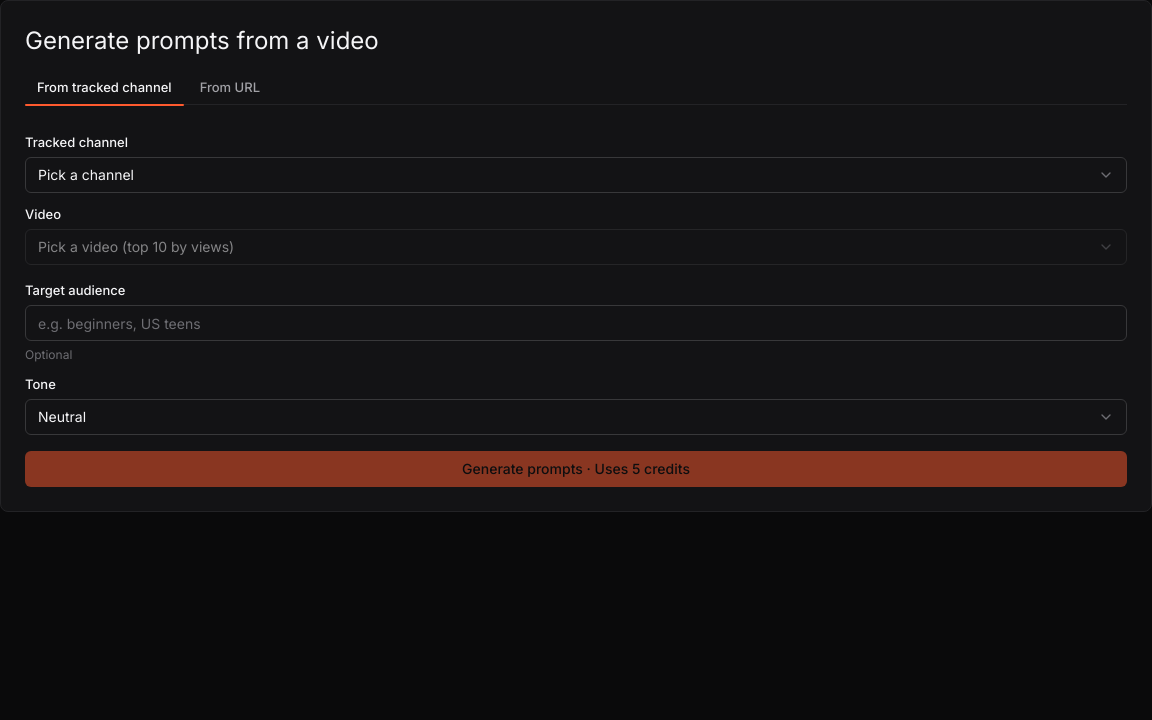
GeneratorForm › shows a failure message and does not charge, per copy
Click the tab "From URL": (230,86) [188,68,272,104]
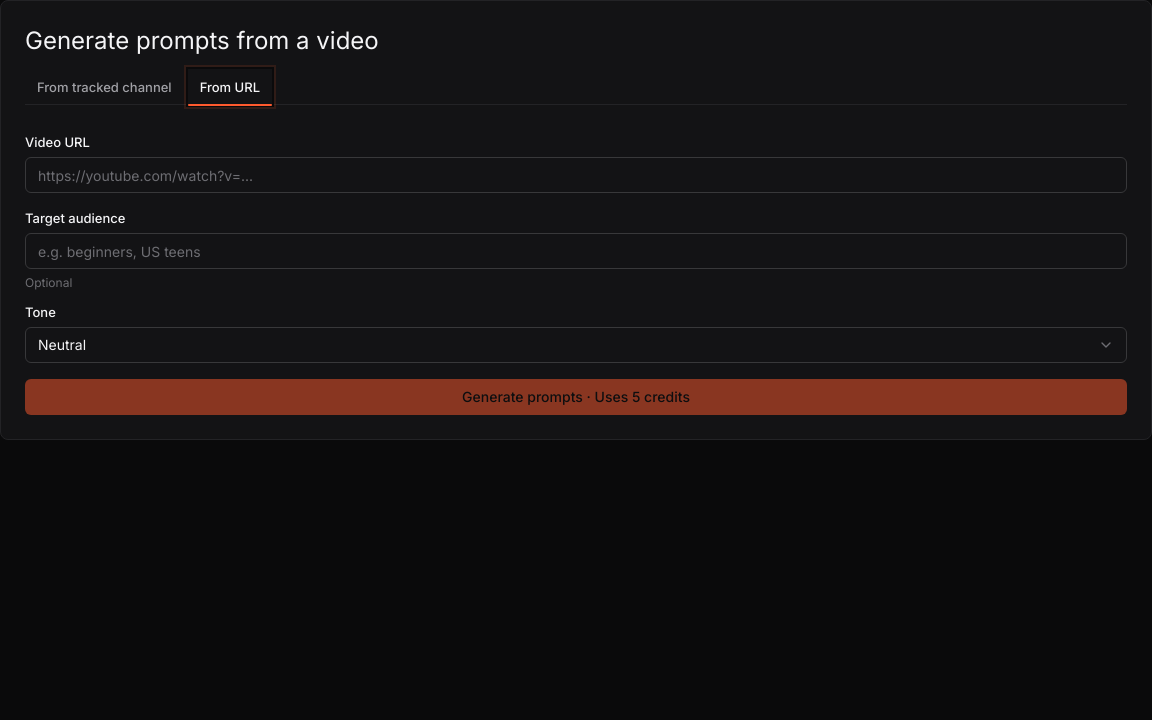
In the field labelled "Video URL": (576,175) [25,157,1127,193], type "https://youtube.com/watch?v=abc123"
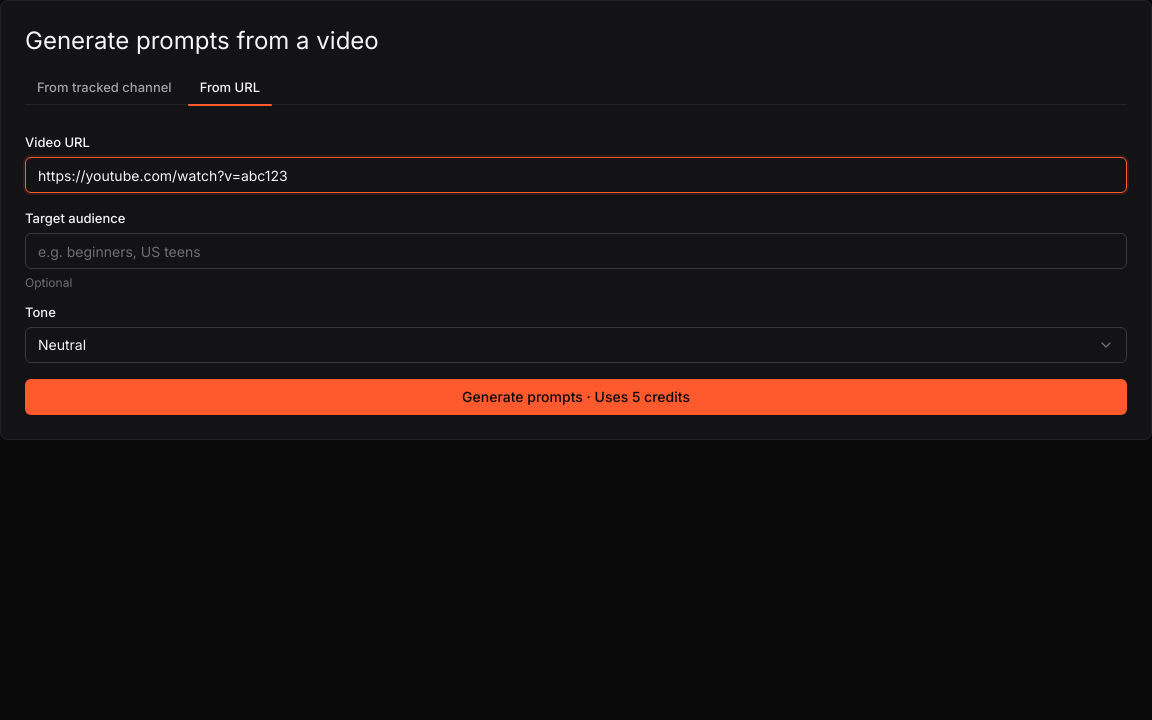
Click the button "Generate prompts · Uses 5 credits": (576,397) [25,379,1127,415]
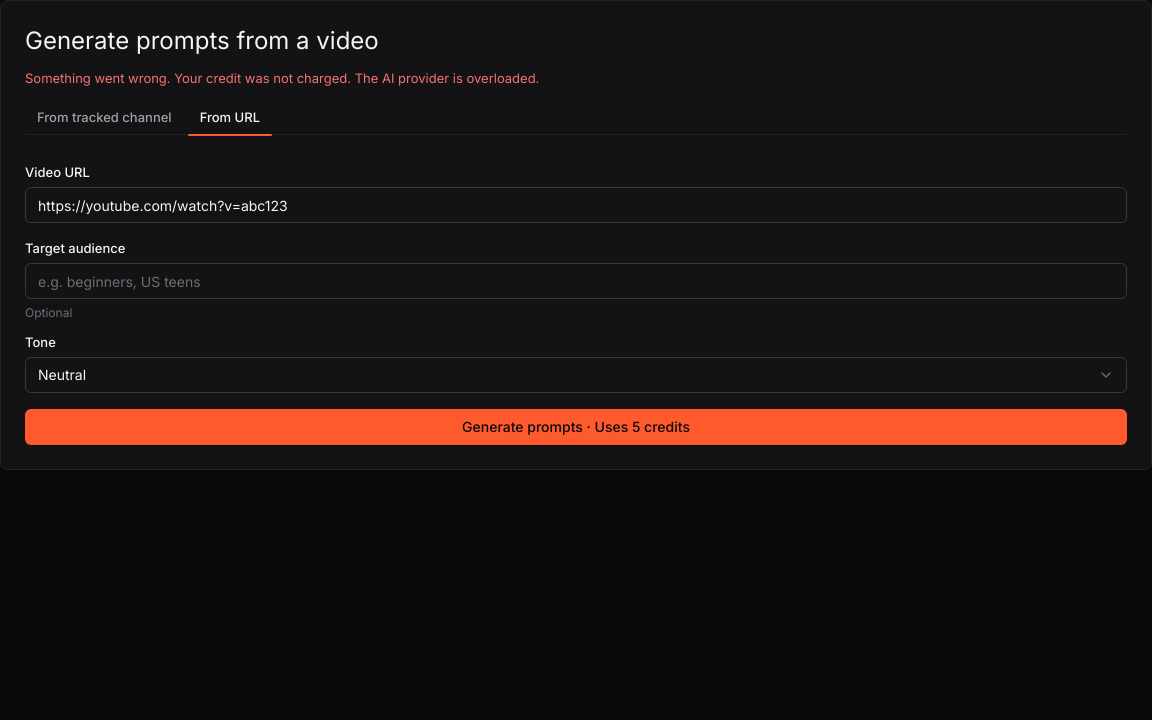
Result: the text "Your credit was not charged. The AI provider is overloaded." is shown at [25,70,539,86]
